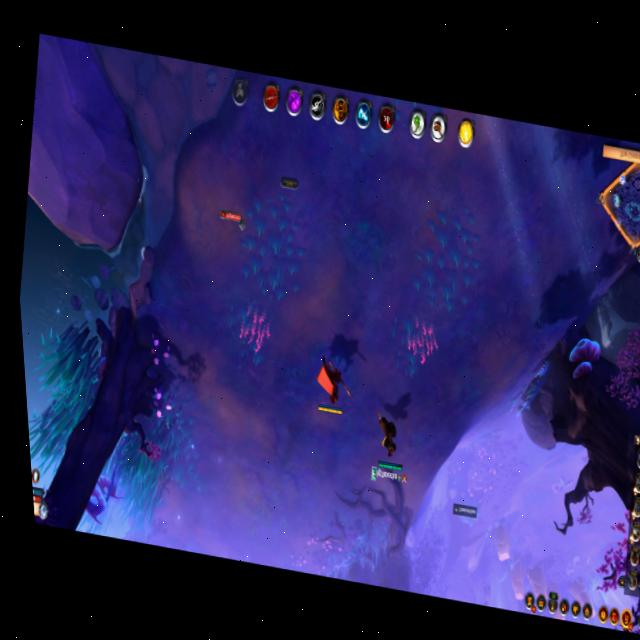red: (361, 400, 421, 490), (306, 347, 364, 426)
tree: (563, 564, 605, 626), (503, 541, 536, 606), (483, 514, 520, 568), (525, 555, 556, 617), (544, 565, 573, 621)
